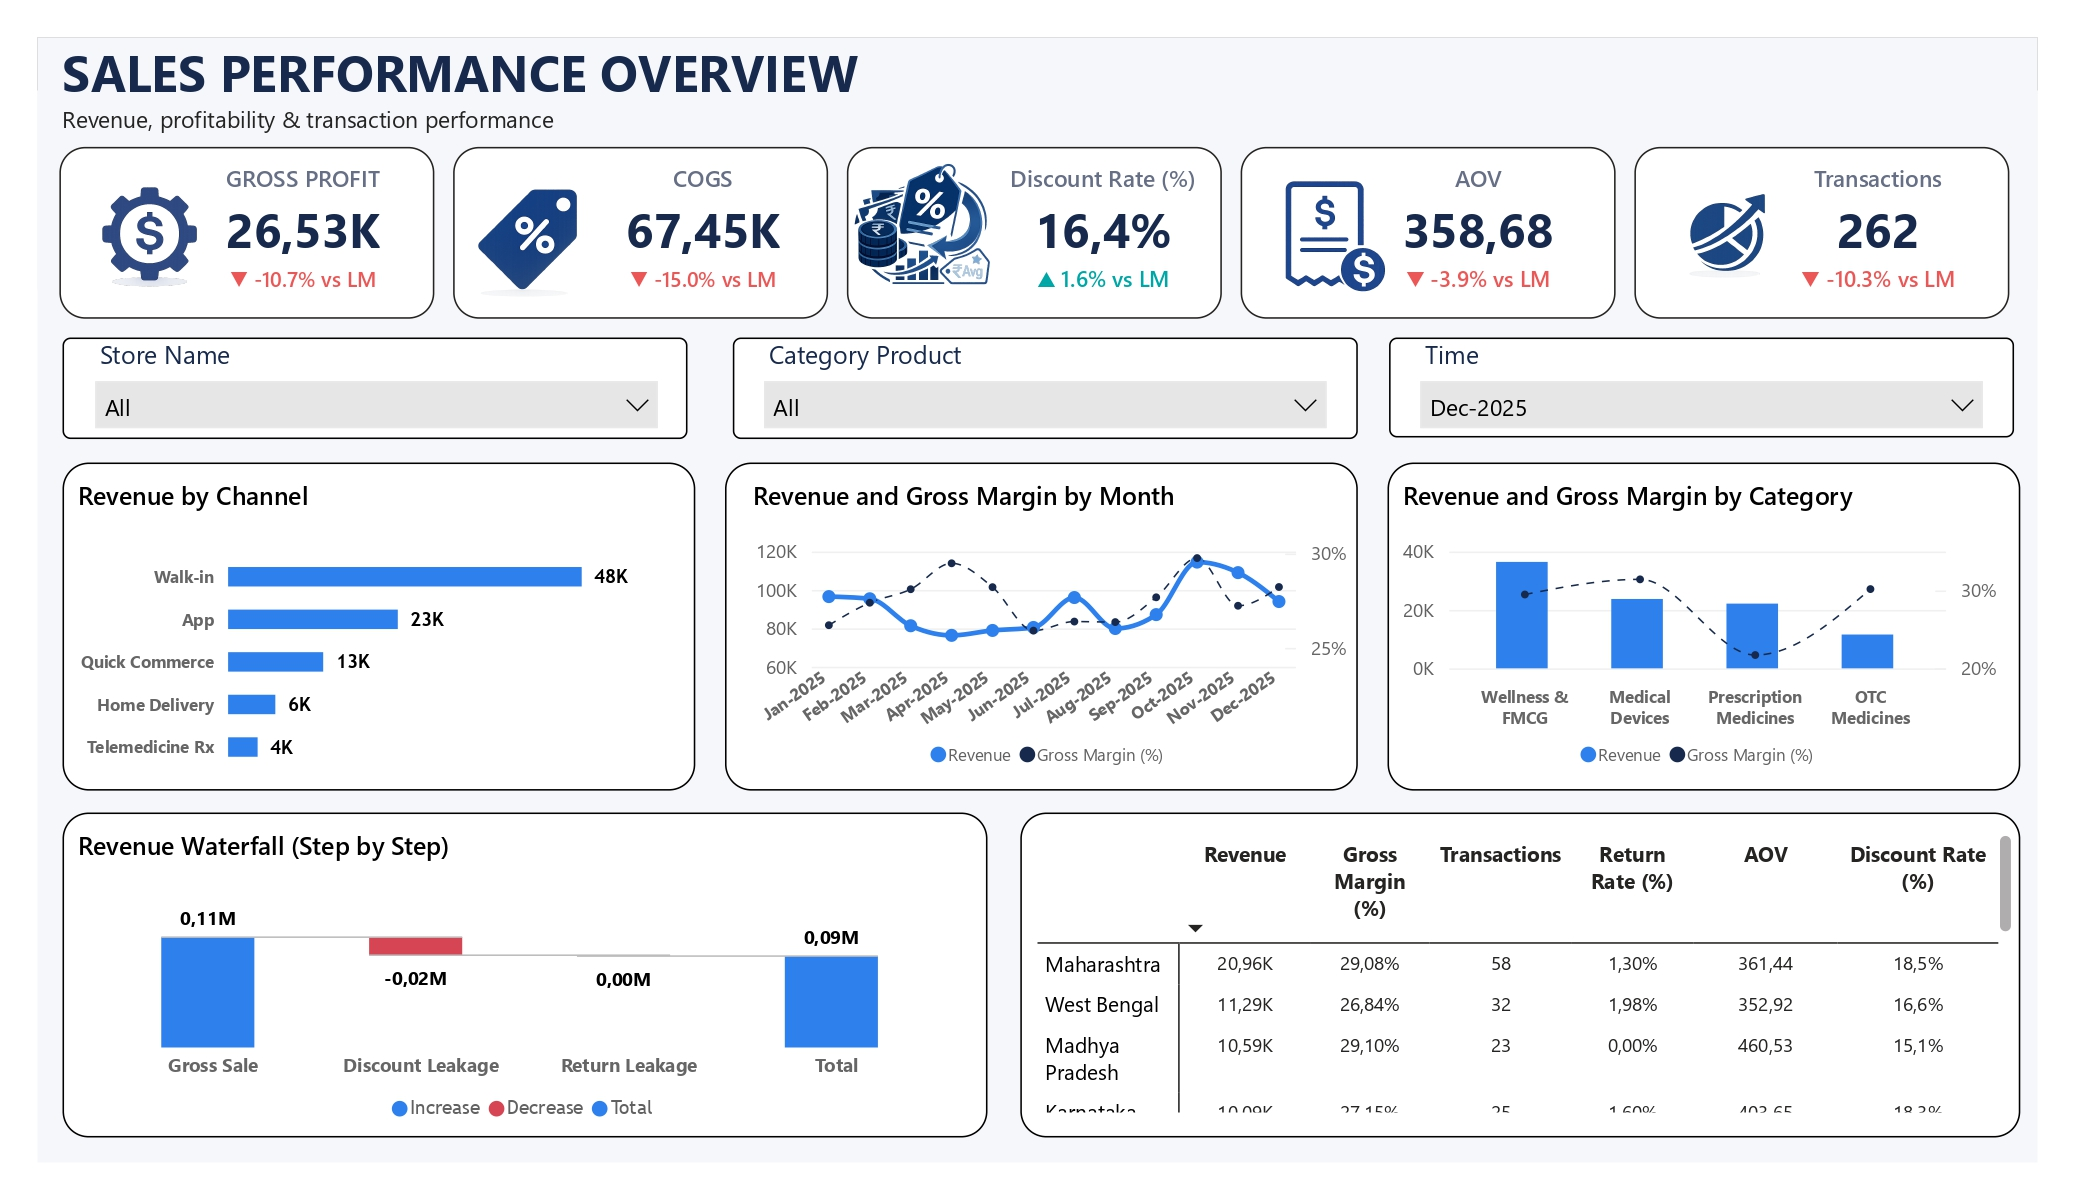

The page's visual inventory and layout, read from the dashboard file:
{"tool":"powerbi","page":{"name":"Overview","canvas":[1280,720],"ordinal":0},"visuals":[{"type":"shape","box":[16,191.8,400,65],"z":0},{"type":"textbox","box":[16,0,528,48],"z":1000},{"type":"shape","box":[14,69.7,240,110],"z":1000,"group":"g5"},{"type":"textbox","box":[16,32,320,32],"z":2000},{"type":"shape","box":[266,69.7,240,110],"z":2000,"group":"g1"},{"type":"shape","box":[518,69.7,240,110],"z":3000,"group":"g2"},{"type":"slicer","fields":{"Values":["Dim_Store.Store_Name"]},"box":[32,192,370,65],"z":3000},{"type":"shape","box":[770,69.7,240,110],"z":4000,"group":"g3"},{"type":"shape","box":[444.5,191.8,400,65],"z":4000},{"type":"shape","box":[1022,69.7,240,110],"z":5000,"group":"g4"},{"type":"shape","box":[864.5,192.3,400,64],"z":5000},{"type":"slicer","fields":{"Values":["Dim_Product.Category"]},"box":[459.5,192,370,65],"z":6000},{"type":"slicer","fields":{"Values":["Dim_Date.MonthYear"]},"box":[879.5,192,370,65],"z":7000},{"type":"cardVisual","fields":{"Data":["_Measure.Transactions"]},"box":[1088,80,180,125],"z":8000,"group":"g4"},{"type":"shape","box":[16,272,405,210],"z":8000},{"type":"cardVisual","fields":{"Data":["_Measure.COGS"]},"box":[336,80,180,125],"z":9000,"group":"g1"},{"type":"shape","box":[16,496,592,208],"z":9000},{"type":"cardVisual","fields":{"Data":["_Measure.Gross Margin"]},"box":[80,80,180,125],"z":10000,"group":"g5"},{"type":"shape","box":[629,496,640,208],"z":10000},{"type":"cardVisual","fields":{"Data":["_Measure.Discount%"]},"box":[592,80,180,125],"z":11000,"group":"g2"},{"type":"shape","box":[864,272,405,210],"z":11000},{"type":"cardVisual","fields":{"Data":["_Measure.AOV"]},"box":[832,80,180,125],"z":12000,"group":"g3"},{"type":"shape","box":[440,272,405,210],"z":12000},{"type":"barChart","title":"Revenue by Channel","fields":{"Category":["Dim_Channel.Sales_Channel"],"Y":["_Measure.Relized Revenue"]},"box":[16,272,400,205],"z":13000},{"type":"lineChart","title":"Revenue and Gross Margin by Month","fields":{"Category":["Dim_Date.MonthYear"],"Y":["_Measure.Relized Revenue"],"Y2":["_Measure.Gross Margin %"]},"box":[448,272,400,205],"z":14000},{"type":"lineClusteredColumnComboChart","title":"Revenue and Gross Margin by Category","fields":{"Category":["Dim_Product.Category"],"Y":["_Measure.Relized Revenue"],"Y2":["_Measure.Gross Margin %"]},"box":[864,272,400,205],"z":15000},{"type":"waterfallChart","title":"Revenue Waterfall (Step by Step)","fields":{"Category":["Revenue Step.Step"],"Y":["_Measure.Revenue Step"]},"box":[16,496,592,208],"z":16000},{"type":"pivotTable","fields":{"Rows":["Dim_Store.State","Dim_Store.City"],"Values":["_Measure.Relized Revenue","_Measure.Gross Margin %","_Measure.Transactions","_Measure.Return%","_Measure.AOV","_Measure.Discount%"]},"box":[624,496,656,208],"z":17000},{"type":"group","id":"g1","title":"Group 2","box":[240,64,276,141],"z":19000},{"type":"group","id":"g2","title":"Group 3","box":[496,64,276,141],"z":20000},{"type":"group","id":"g3","title":"Group 4","box":[752,64,260,141],"z":21000},{"type":"group","id":"g4","title":"Group 5","box":[1008,64,260,141],"z":22000},{"type":"image","box":[0,64,144,128],"z":28000,"group":"g5"},{"type":"group","id":"g5","title":"Group 1","box":[0,64,260,141],"z":28001},{"type":"image","box":[240,64,144,128],"z":29000,"group":"g1"},{"type":"image","box":[496,64,144,128],"z":30000,"group":"g2"},{"type":"image","box":[752,64,144,128],"z":31000,"group":"g3"},{"type":"image","box":[1008,64,144,128],"z":32000,"group":"g4"}]}

Visuals, with their boxes on the page's 1280x720 design canvas (x1, y1, x2, y2). These are canvas units, not pixel positions in the 2075x1200 screenshot, which may show the page scaled, cropped or inside an application window:
shape: box=[16, 192, 416, 257]
textbox: box=[16, 0, 544, 48]
shape: box=[14, 70, 254, 180]
textbox: box=[16, 32, 336, 64]
shape: box=[266, 70, 506, 180]
shape: box=[518, 70, 758, 180]
slicer - Dim_Store.Store_Name: box=[32, 192, 402, 257]
shape: box=[770, 70, 1010, 180]
shape: box=[444, 192, 844, 257]
shape: box=[1022, 70, 1262, 180]
shape: box=[864, 192, 1264, 256]
slicer - Dim_Product.Category: box=[460, 192, 830, 257]
slicer - Dim_Date.MonthYear: box=[880, 192, 1250, 257]
cardVisual - _Measure.Transactions: box=[1088, 80, 1268, 205]
shape: box=[16, 272, 421, 482]
cardVisual - _Measure.COGS: box=[336, 80, 516, 205]
shape: box=[16, 496, 608, 704]
cardVisual - _Measure.Gross Margin: box=[80, 80, 260, 205]
shape: box=[629, 496, 1269, 704]
cardVisual - _Measure.Discount%: box=[592, 80, 772, 205]
shape: box=[864, 272, 1269, 482]
cardVisual - _Measure.AOV: box=[832, 80, 1012, 205]
shape: box=[440, 272, 845, 482]
"Revenue by Channel" barChart: box=[16, 272, 416, 477]
"Revenue and Gross Margin by Month" lineChart: box=[448, 272, 848, 477]
"Revenue and Gross Margin by Category" lineClusteredColumnComboChart: box=[864, 272, 1264, 477]
"Revenue Waterfall (Step by Step)" waterfallChart: box=[16, 496, 608, 704]
pivotTable - Dim_Store.State x Dim_Store.City: box=[624, 496, 1280, 704]
"Group 2" group: box=[240, 64, 516, 205]
"Group 3" group: box=[496, 64, 772, 205]
"Group 4" group: box=[752, 64, 1012, 205]
"Group 5" group: box=[1008, 64, 1268, 205]
image: box=[0, 64, 144, 192]
"Group 1" group: box=[0, 64, 260, 205]
image: box=[240, 64, 384, 192]
image: box=[496, 64, 640, 192]
image: box=[752, 64, 896, 192]
image: box=[1008, 64, 1152, 192]
